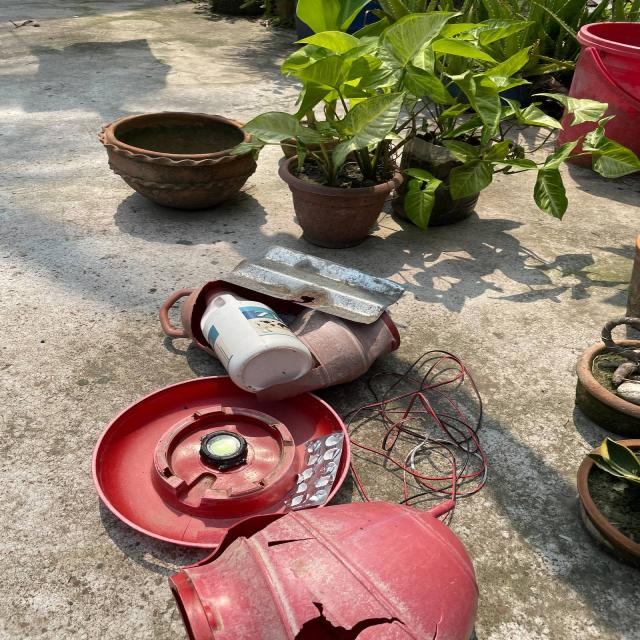Cable: (375, 350, 510, 510)
E-waste: (190, 415, 270, 474)
Medical Waste: (287, 422, 345, 514)
Metal: (228, 236, 412, 308)
Plastics: (145, 506, 481, 640), (148, 288, 366, 402), (78, 391, 180, 537)
